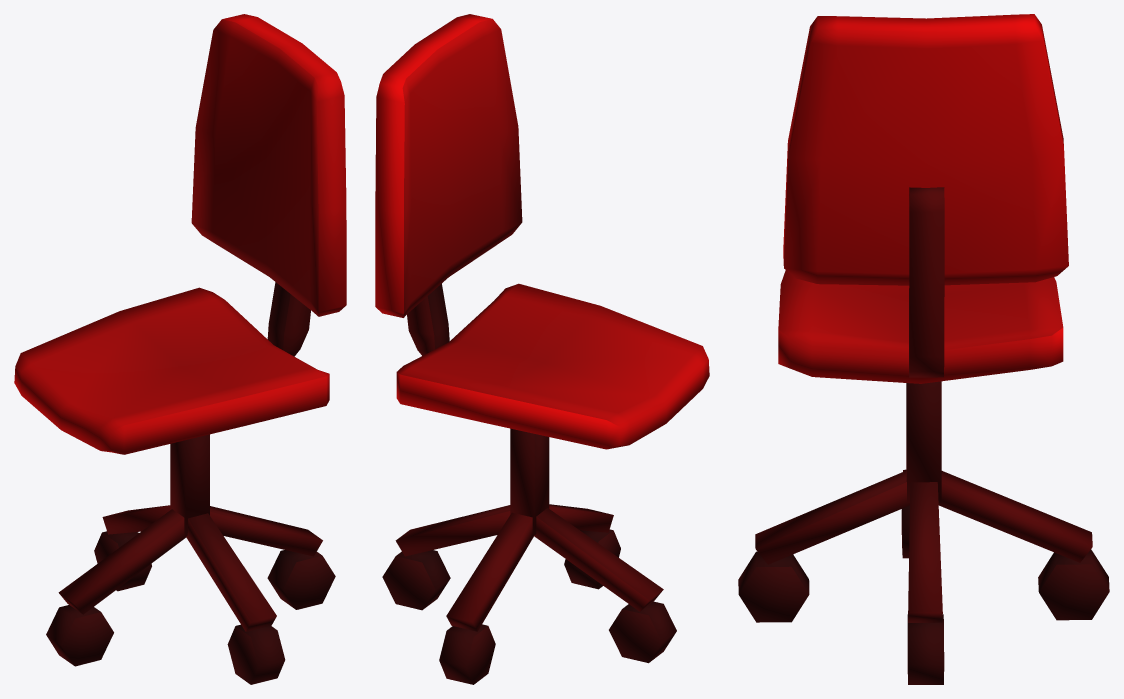
The model's file is OfficeChair.fbx.
3 views of the same model, side by side, from view 1: azimuth 30°, elevation 25°; view 2: azimuth 150°, elevation 25°; view 3: azimuth 270°, elevation 25° (orthographic). The views are drawn at different scales.
Parts seen in each view (by area): view 1: color, base.001; view 2: color, base.001; view 3: color, base.001.
Part boxes in pixels (<box>): color: <box>14,14,346,454</box>; base.001: <box>46,282,335,684</box>; color: <box>375,14,709,449</box>; base.001: <box>382,283,676,684</box>; color: <box>778,14,1068,383</box>; base.001: <box>738,187,1109,684</box>.
Size of the model in its own units: 34.12 by 65.61 by 34.12.
